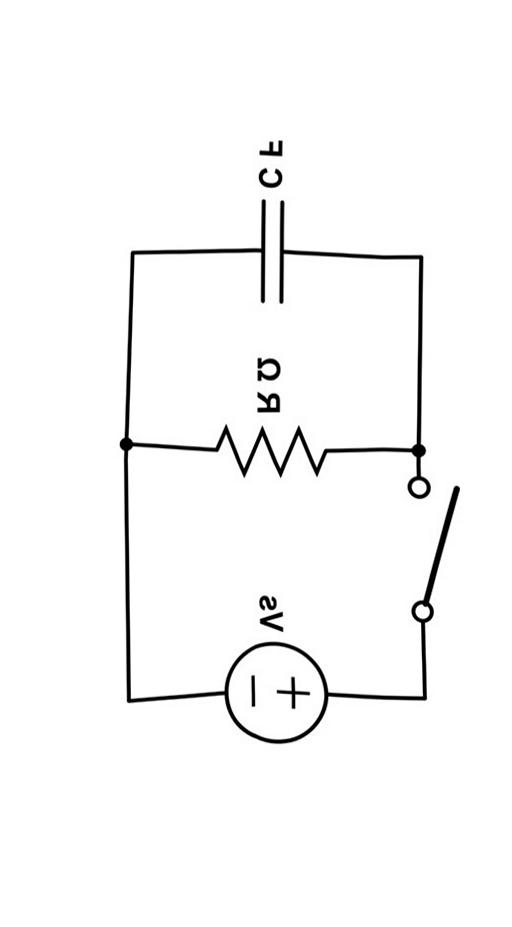Battery: (202, 630, 353, 765)
